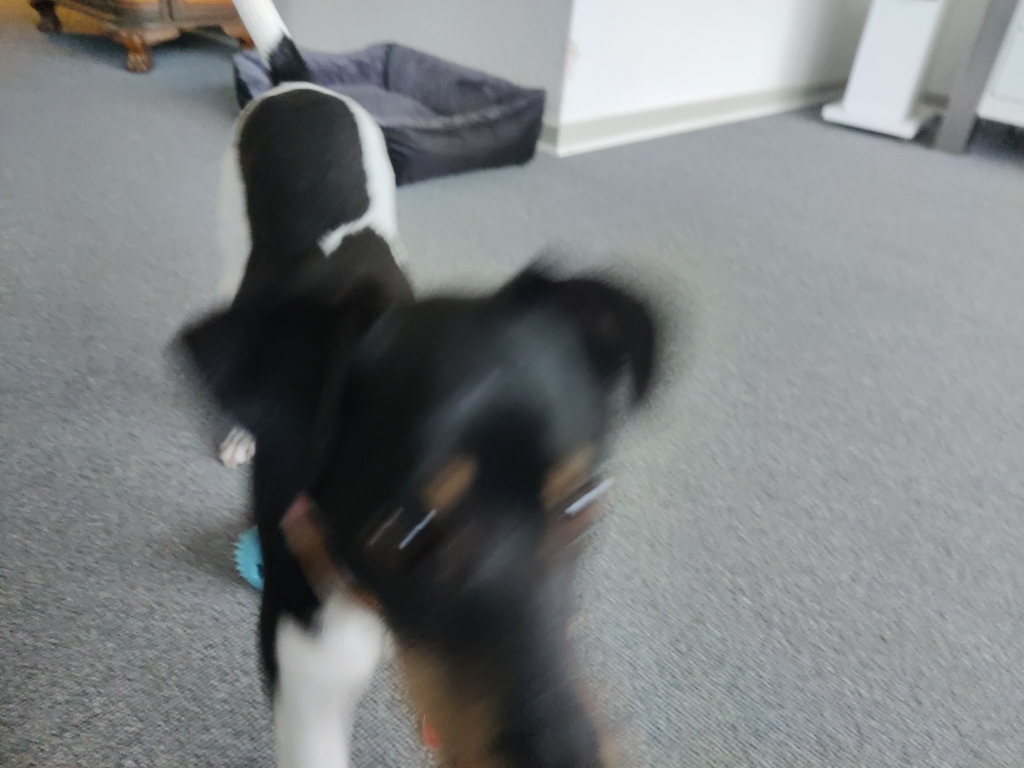Dog: (117, 0, 718, 768)
